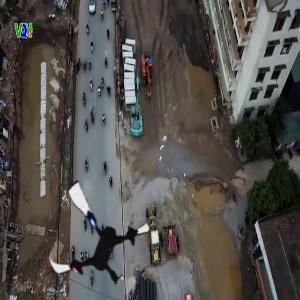drone: (39, 178, 157, 296)
